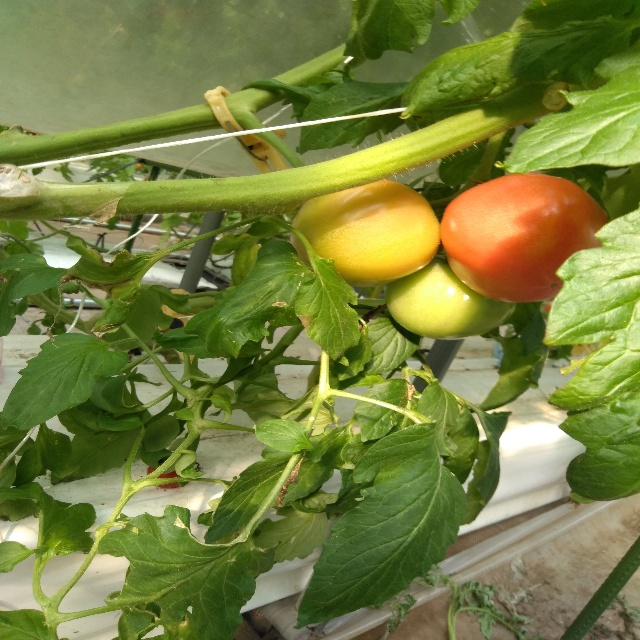b_green: (385, 253, 519, 340)
b_half_ripened: (440, 172, 609, 302), (289, 178, 441, 288)
